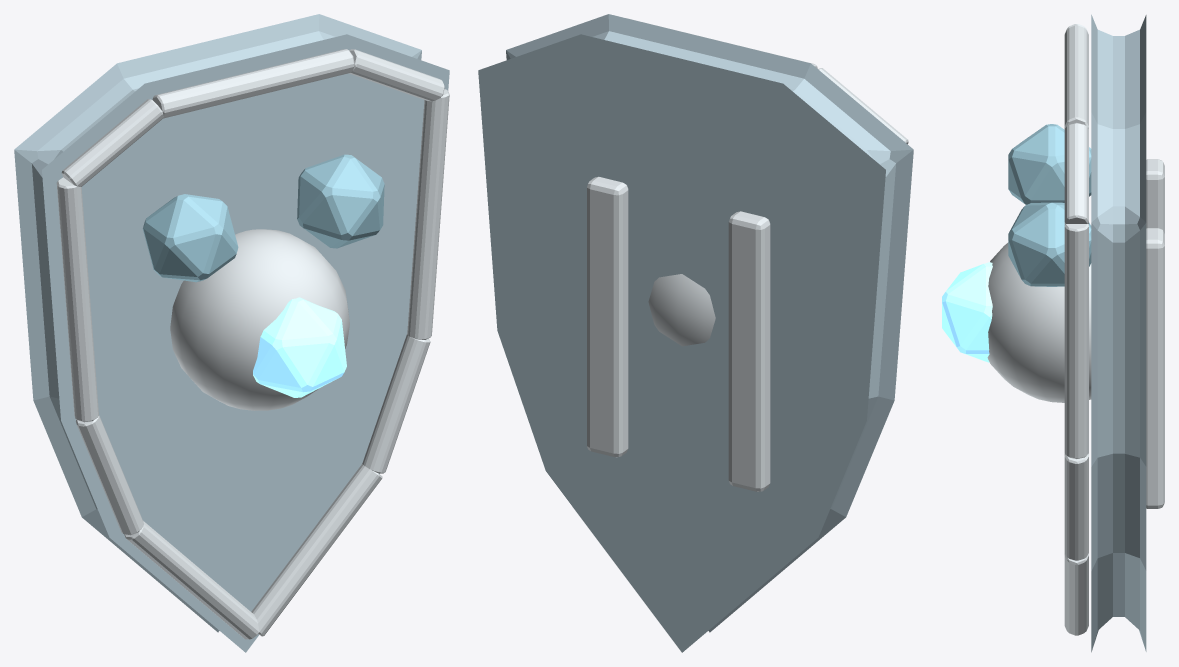
The model's file is warrior-shield-03-glacier.glb.
The picture shows the model from 3 angles, left to right: view 1: azimuth 30°, elevation 25°; view 2: azimuth 150°, elevation 25°; view 3: azimuth 270°, elevation 25°; orthographic projection.
Parts seen in each view (by area): view 1: warrior-shield-03-glacier_ShieldBack, warrior-shield-03-glacier_BossBase, warrior-shield-03-glacier_BossGem, warrior-shield-03-glacier_IceCrest_1, warrior-shield-03-glacier_IceCrest_-1, warrior-shield-03-glacier_RaisedRim_4, warrior-shield-03-glacier_RaisedRim_9, warrior-shield-03-glacier_RaisedRim_2, warrior-shield-03-glacier_RaisedRim_6, warrior-shield-03-glacier_RaisedRim_7, warrior-shield-03-glacier_RaisedRim_5, warrior-shield-03-glacier_RaisedRim_8 (+2 smaller); view 2: warrior-shield-03-glacier_ShieldBack, warrior-shield-03-glacier_BackStrap_-1, warrior-shield-03-glacier_BackStrap_1, warrior-shield-03-glacier_BossBase; view 3: warrior-shield-03-glacier_ShieldBack, warrior-shield-03-glacier_BossBase, warrior-shield-03-glacier_RaisedRim_4, warrior-shield-03-glacier_BackStrap_1, warrior-shield-03-glacier_IceCrest_1, warrior-shield-03-glacier_IceCrest_-1, warrior-shield-03-glacier_BossGem, warrior-shield-03-glacier_RaisedRim_5, warrior-shield-03-glacier_RaisedRim_3, warrior-shield-03-glacier_RaisedRim_2, warrior-shield-03-glacier_RaisedRim_6, warrior-shield-03-glacier_BackStrap_-1.
Part boxes in pixels (left/top/right/bottom): warrior-shield-03-glacier_ShieldBack: left=14, top=14, right=449, bottom=652; warrior-shield-03-glacier_BossBase: left=170, top=229, right=349, bottom=410; warrior-shield-03-glacier_BossGem: left=253, top=297, right=346, bottom=397; warrior-shield-03-glacier_IceCrest_1: left=297, top=154, right=384, bottom=248; warrior-shield-03-glacier_IceCrest_-1: left=143, top=194, right=238, bottom=282; warrior-shield-03-glacier_RaisedRim_4: left=407, top=89, right=449, bottom=339; warrior-shield-03-glacier_RaisedRim_9: left=56, top=177, right=98, bottom=422; warrior-shield-03-glacier_RaisedRim_2: left=152, top=49, right=354, bottom=118; warrior-shield-03-glacier_RaisedRim_6: left=251, top=464, right=382, bottom=636; warrior-shield-03-glacier_RaisedRim_7: left=124, top=521, right=259, bottom=639; warrior-shield-03-glacier_RaisedRim_5: left=362, top=333, right=430, bottom=473; warrior-shield-03-glacier_RaisedRim_8: left=76, top=415, right=143, bottom=535; warrior-shield-03-glacier_ShieldBack: left=478, top=14, right=913, bottom=652; warrior-shield-03-glacier_BackStrap_-1: left=728, top=211, right=770, bottom=491; warrior-shield-03-glacier_BackStrap_1: left=587, top=176, right=628, bottom=457; warrior-shield-03-glacier_BossBase: left=648, top=274, right=715, bottom=346; warrior-shield-03-glacier_ShieldBack: left=1091, top=14, right=1146, bottom=652; warrior-shield-03-glacier_BossBase: left=987, top=225, right=1091, bottom=402; warrior-shield-03-glacier_RaisedRim_4: left=1064, top=224, right=1088, bottom=458; warrior-shield-03-glacier_BackStrap_1: left=1146, top=228, right=1164, bottom=508; warrior-shield-03-glacier_IceCrest_1: left=1008, top=202, right=1091, bottom=286; warrior-shield-03-glacier_IceCrest_-1: left=1008, top=124, right=1091, bottom=204; warrior-shield-03-glacier_BossGem: left=942, top=262, right=992, bottom=362; warrior-shield-03-glacier_RaisedRim_5: left=1064, top=453, right=1088, bottom=560; warrior-shield-03-glacier_RaisedRim_3: left=1064, top=123, right=1088, bottom=223; warrior-shield-03-glacier_RaisedRim_2: left=1064, top=25, right=1088, bottom=128; warrior-shield-03-glacier_RaisedRim_6: left=1064, top=553, right=1088, bottom=635; warrior-shield-03-glacier_BackStrap_-1: left=1146, top=159, right=1164, bottom=233.
Size of the model in its own units: 0.9774 by 1.36 by 0.4652.
